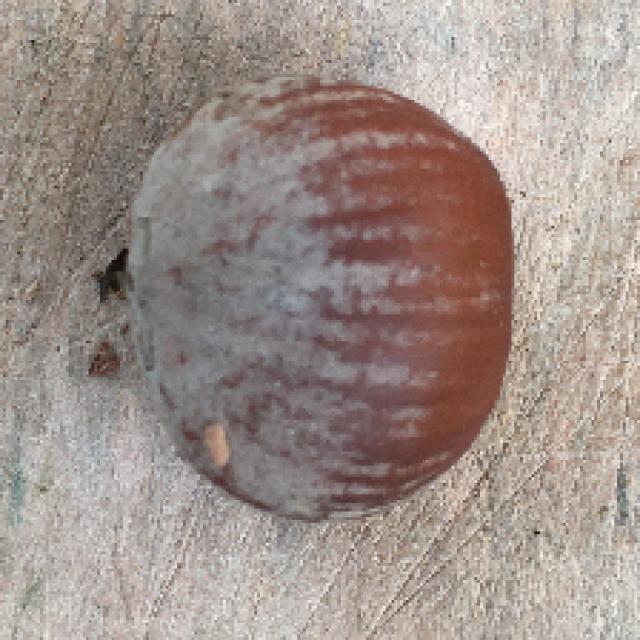qualityHazelnut: (121, 73, 531, 534)
